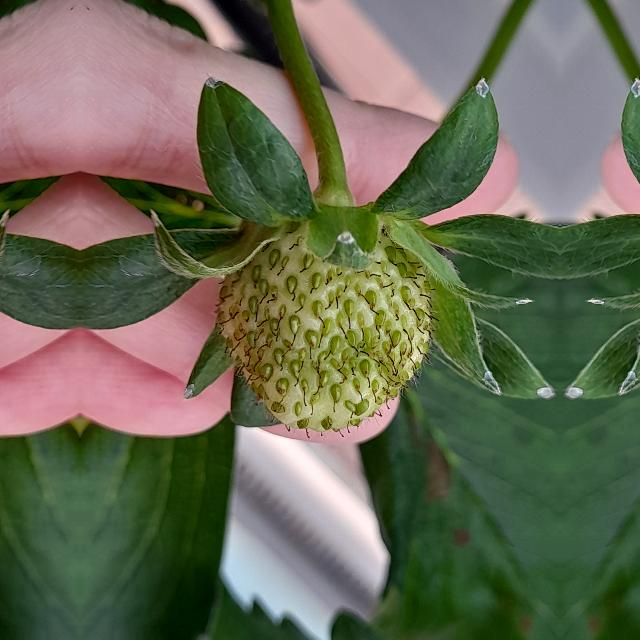Health_25: (210, 220, 438, 440)
